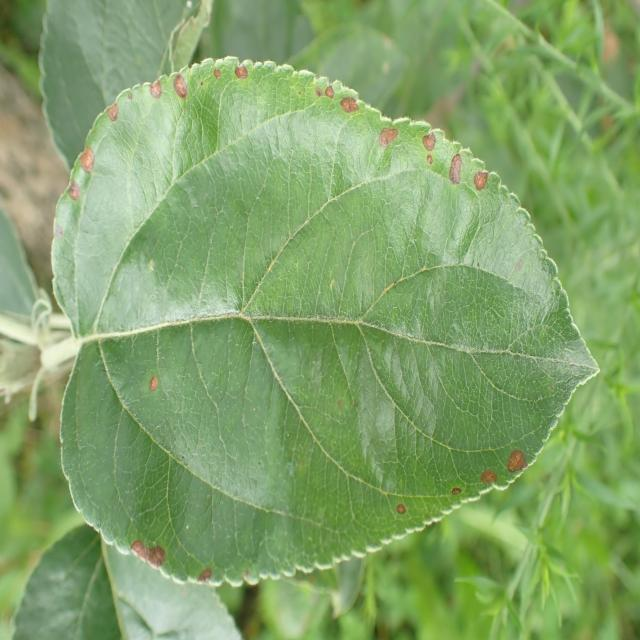Black Rot: (55, 131, 112, 218), (102, 87, 142, 156), (183, 558, 240, 606), (124, 528, 174, 577), (315, 76, 363, 119), (365, 115, 405, 162), (411, 120, 443, 172), (470, 153, 498, 211), (501, 434, 533, 482), (168, 64, 195, 117), (199, 40, 227, 91), (140, 59, 168, 108), (476, 442, 498, 501), (386, 496, 416, 538), (446, 140, 466, 202), (143, 362, 172, 401), (223, 64, 261, 91), (442, 477, 469, 510)
